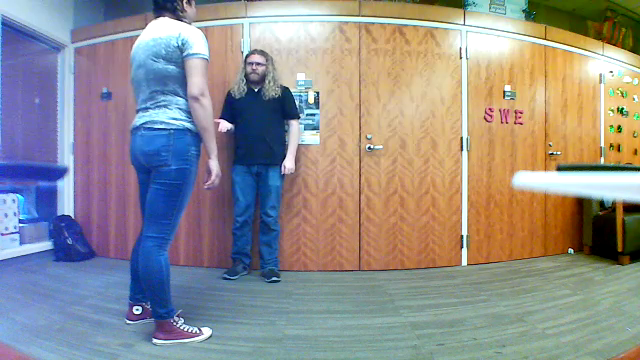land: (206, 111, 237, 134)
